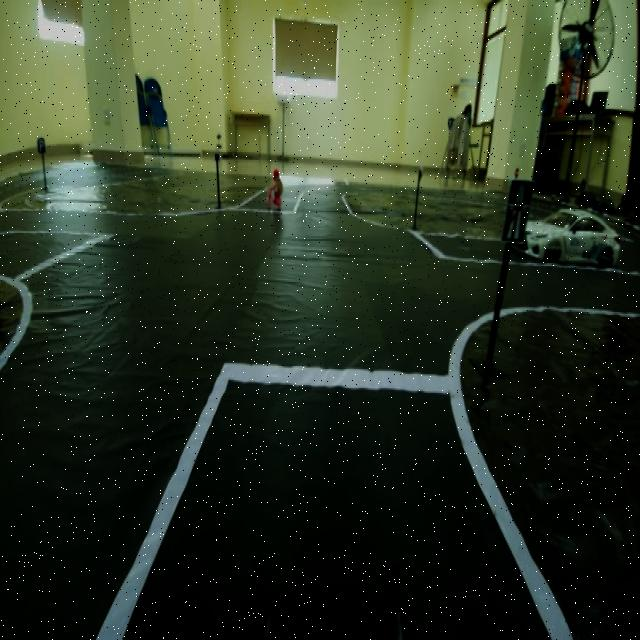highway_exit: (500, 166, 534, 262)
